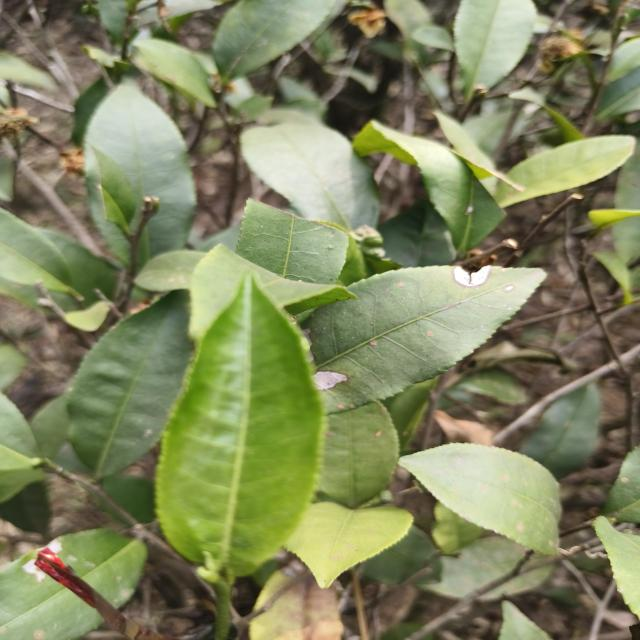Leaf: (155, 272, 325, 640), (306, 266, 546, 413), (68, 290, 192, 478), (84, 83, 196, 264), (353, 120, 505, 251), (399, 443, 561, 554), (189, 245, 356, 341), (241, 123, 380, 230), (286, 502, 413, 588), (212, 0, 344, 82), (495, 135, 635, 207), (236, 199, 348, 284), (0, 551, 102, 640), (318, 401, 399, 508), (454, 0, 536, 99), (520, 383, 600, 479), (50, 528, 147, 607), (0, 208, 81, 298), (249, 570, 343, 640), (421, 536, 525, 599), (134, 38, 215, 107), (595, 516, 640, 619), (364, 526, 435, 585), (135, 250, 207, 291), (432, 502, 483, 554), (103, 475, 156, 523), (481, 566, 553, 600), (596, 67, 640, 119), (252, 567, 294, 612), (410, 23, 453, 50), (589, 209, 640, 230)
